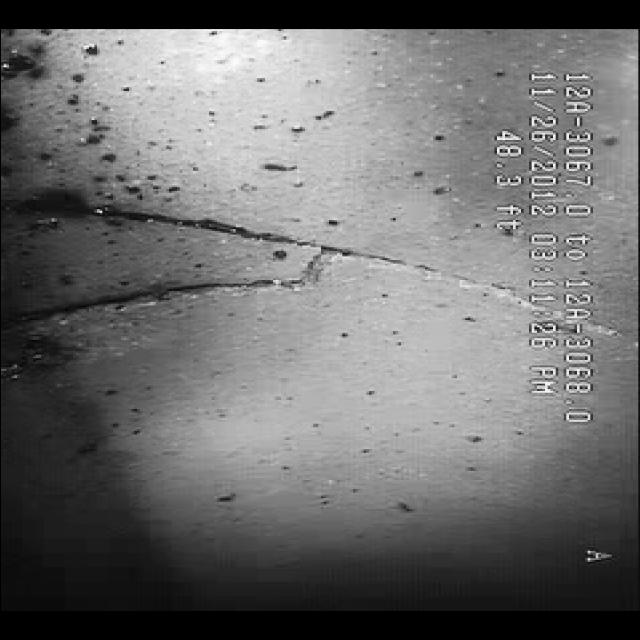Crack: (38, 208, 424, 328)
